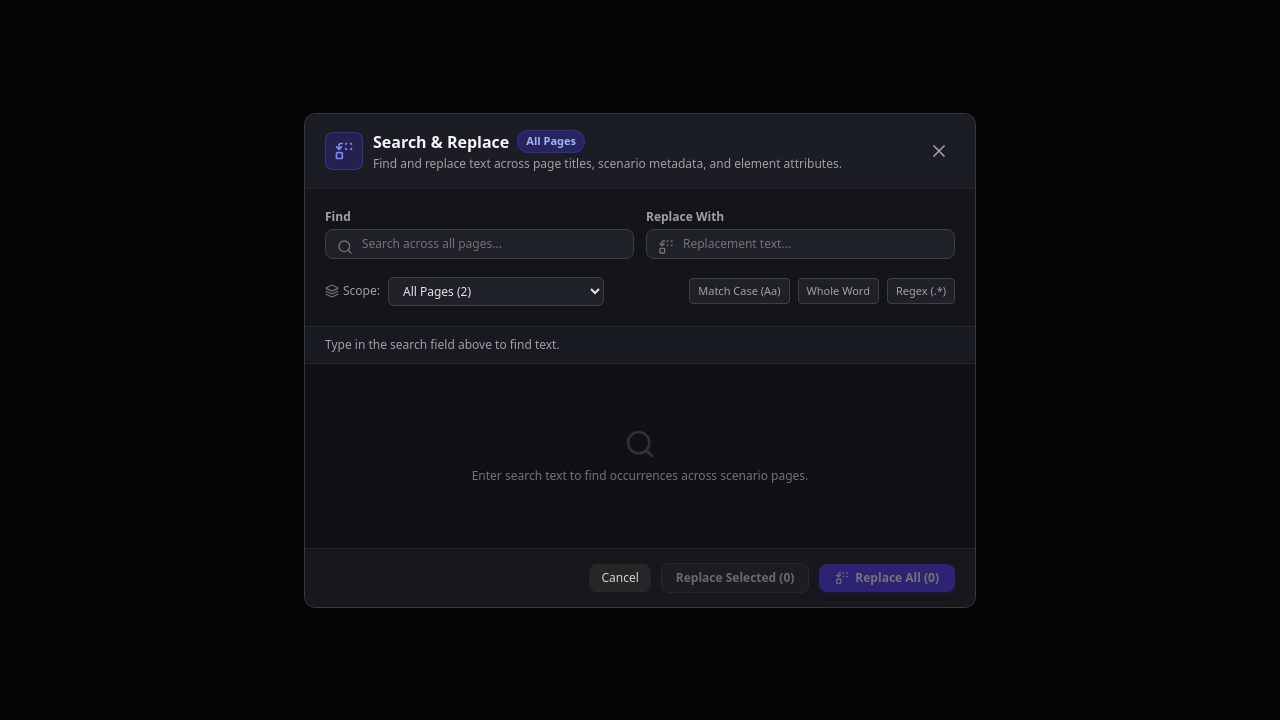
Scenario: SearchReplaceModal › replaces all occurrences across all pages when "Replace All" is clicked
Type "goblin" into the field with placeholder "Search across all pages..." at (480, 244), box [325,228,634,258]
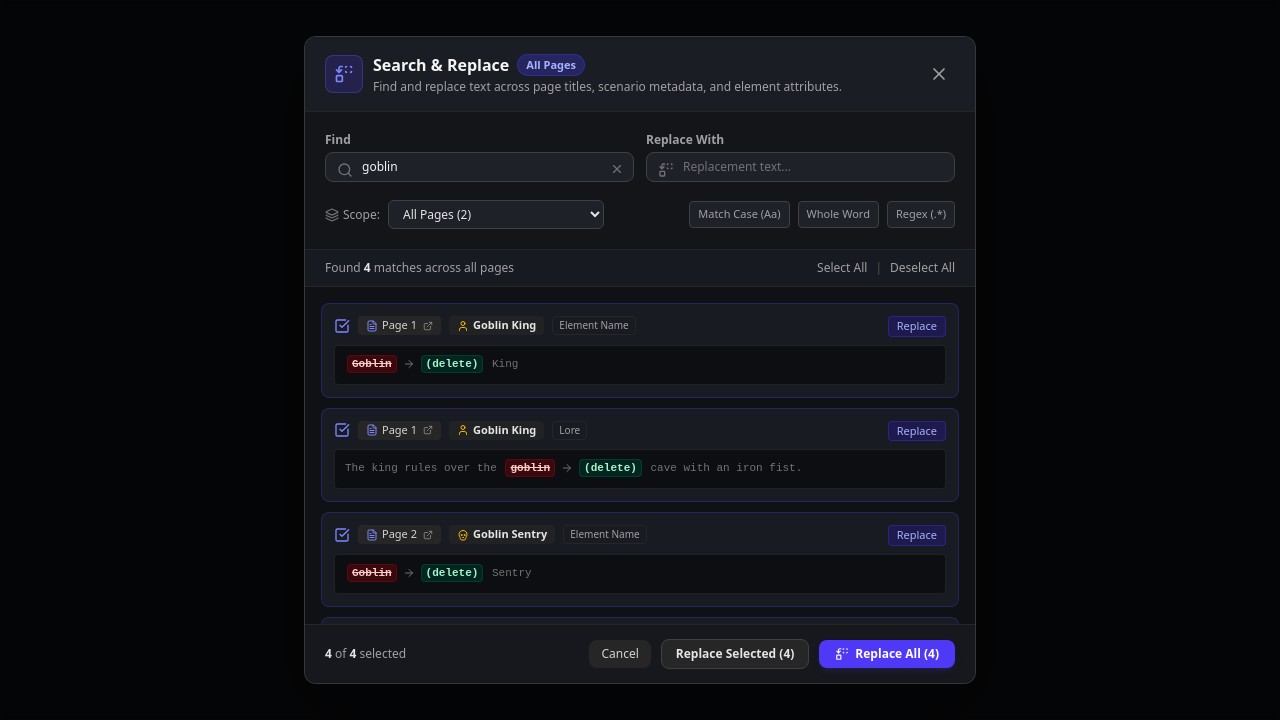
Type "kobold" into the field with placeholder "Replacement text..." at (800, 167), box [646,152,955,182]
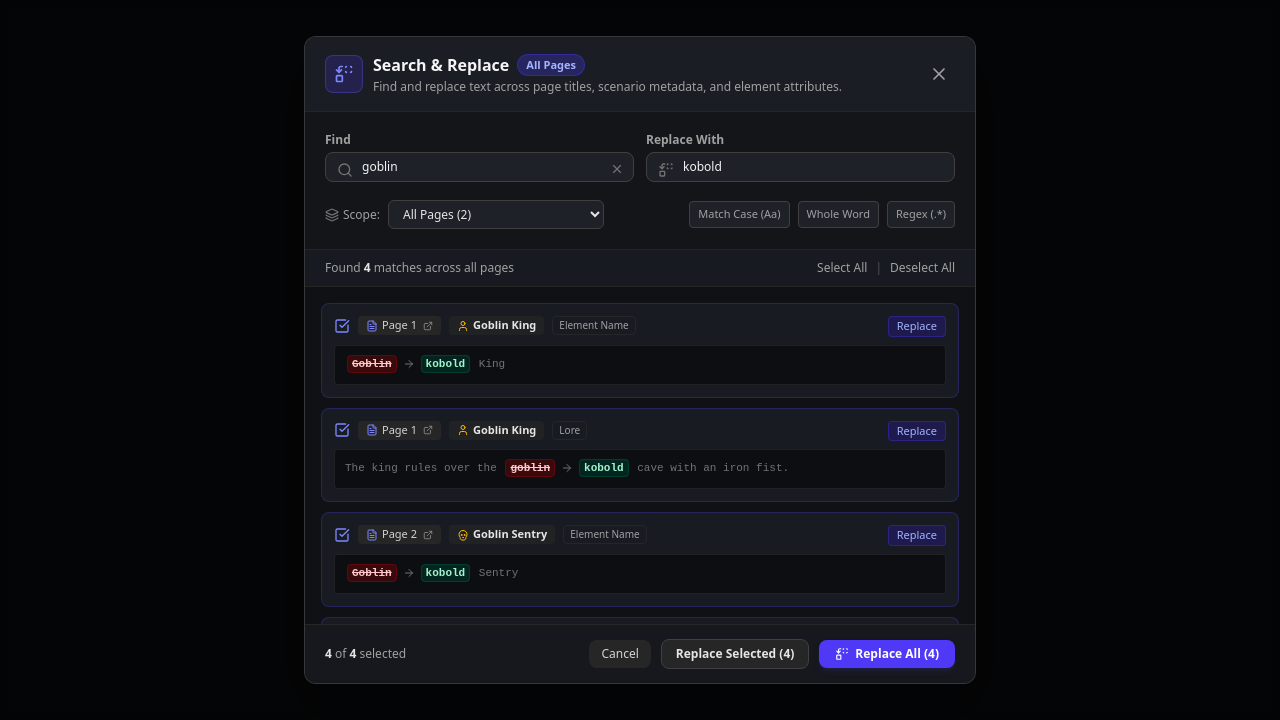
Click the button "Replace All (4)" at (887, 654), box [819,640,955,668]
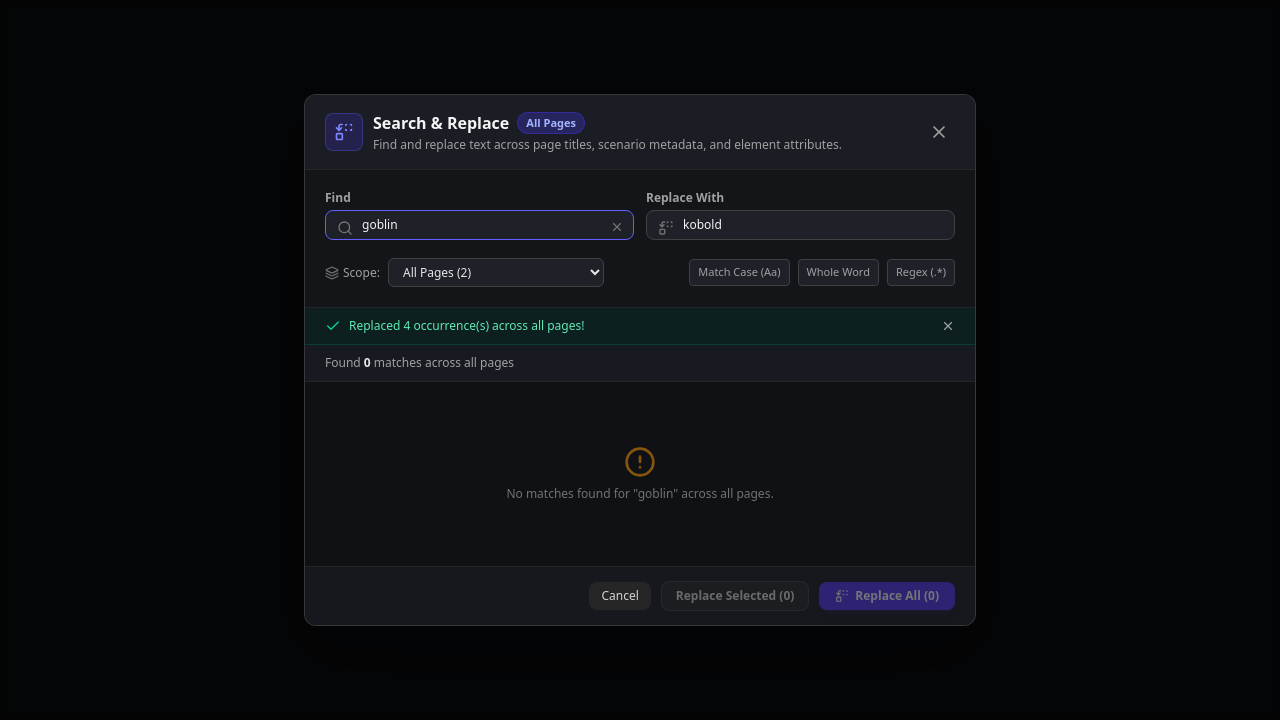
Now the text "Replaced 4 occurrence(s) across all pages!" is shown, box [349,318,584,334]
